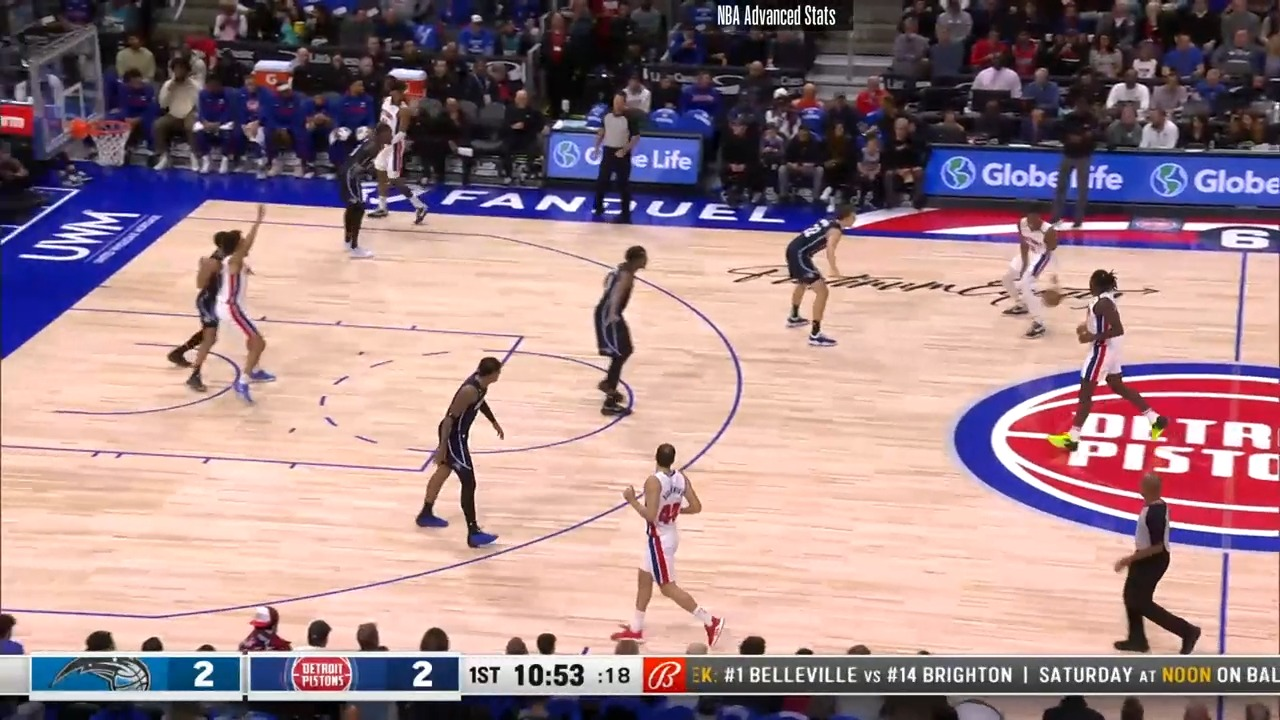net: (68, 109, 140, 170)
player: (626, 439, 728, 653), (1064, 268, 1164, 465), (415, 354, 510, 552), (195, 210, 278, 403), (585, 243, 651, 423), (165, 222, 235, 389), (788, 200, 865, 347), (360, 81, 432, 232), (995, 204, 1069, 343), (339, 124, 394, 265)
referee: (1108, 468, 1184, 656), (586, 86, 637, 227)
